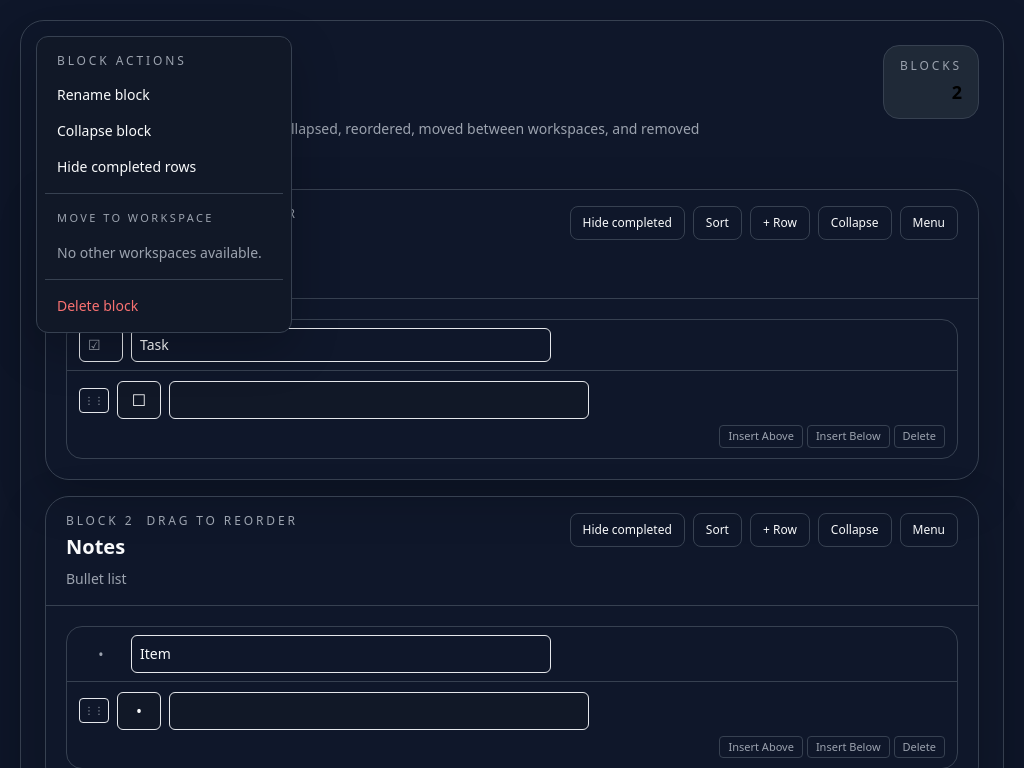
Test: context menu dismissal › block menu uses a backdrop so outside dismissal does not mutate block state
The width and height of the screenshot is (1024, 768).
Press the mouse on the element with test id "block-menu-backdrop": coordinates (512, 384) [0, 0, 1023, 767]
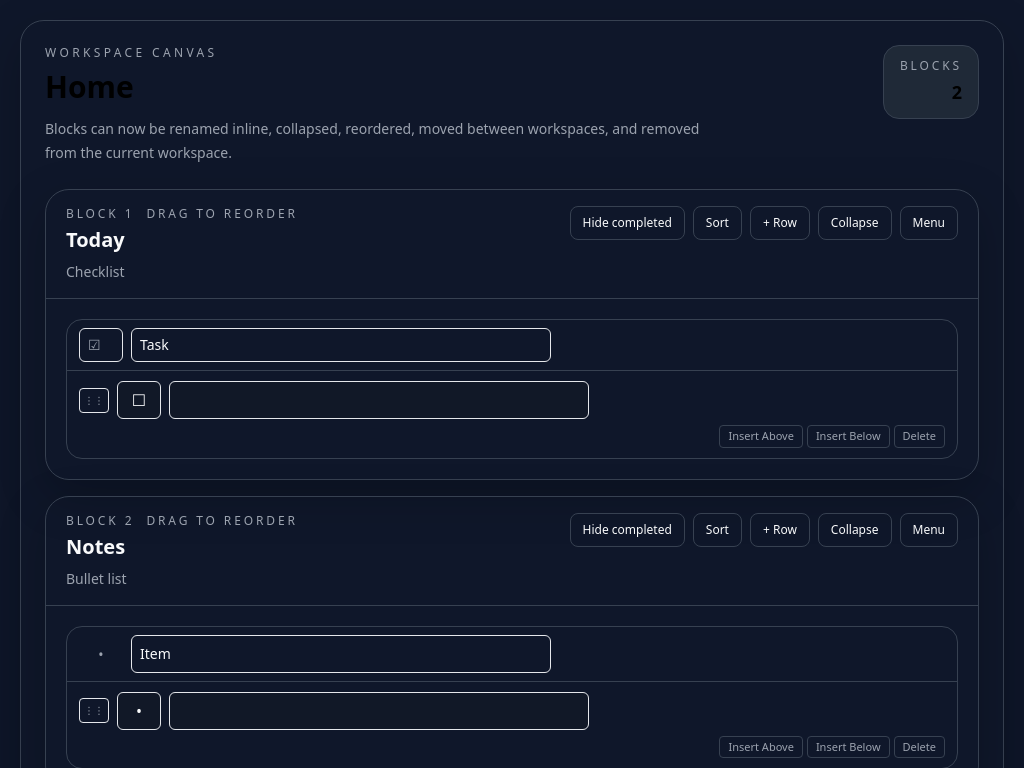
Result: the element with test id "block-menu-backdrop" is gone
